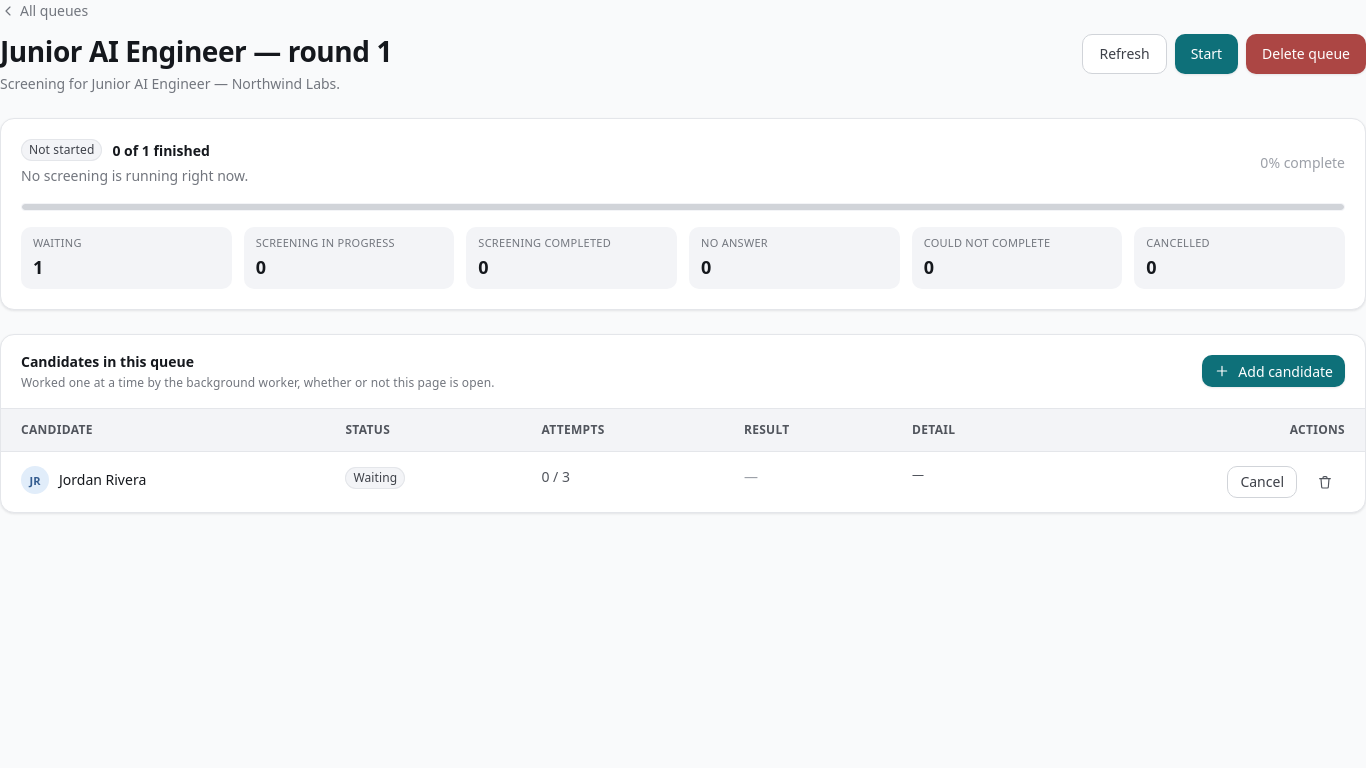
Test: QueueDetailPage › explains when a candidate cannot be queued without an approved plan
The image size is (1366, 768).
Click the button "Add candidate": (1274, 371) [1202,355,1345,387]
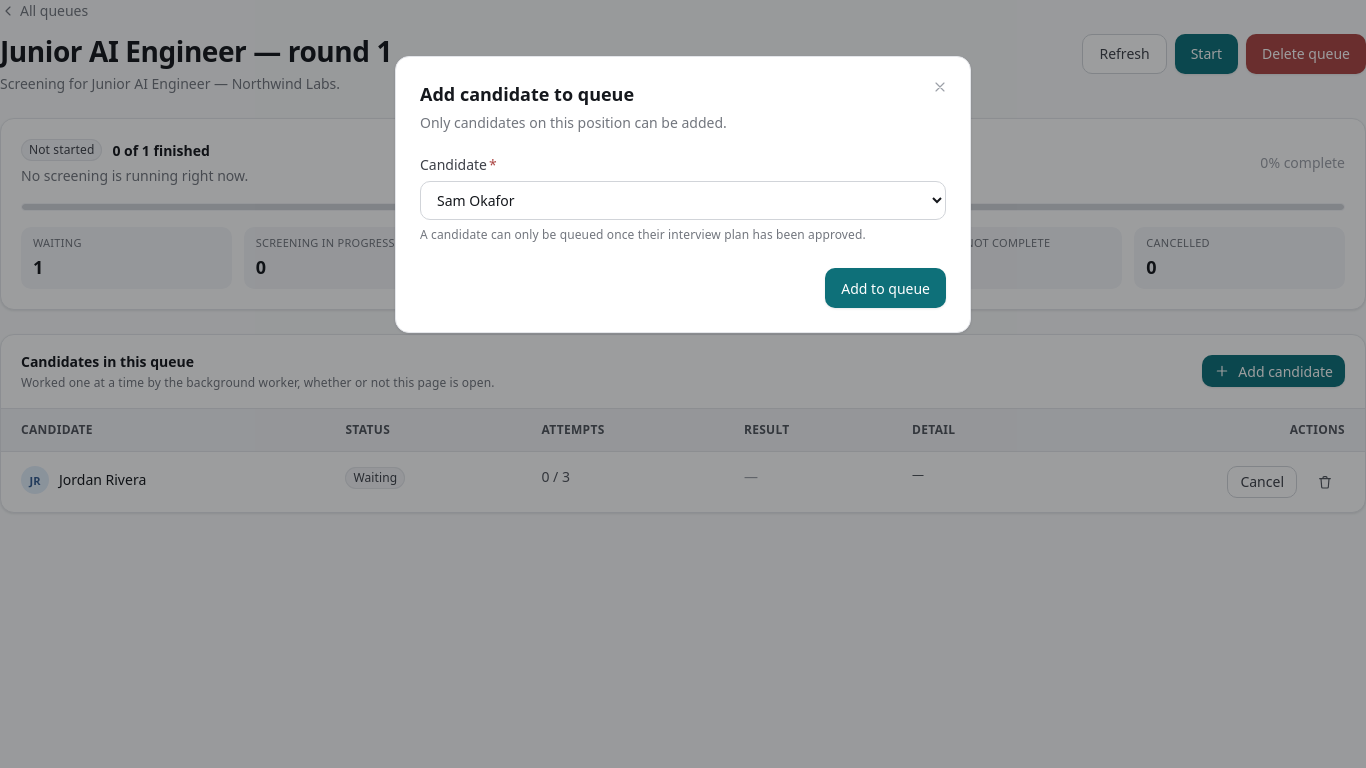
Click the button "Add to queue": (886, 288) [825,268,946,308]
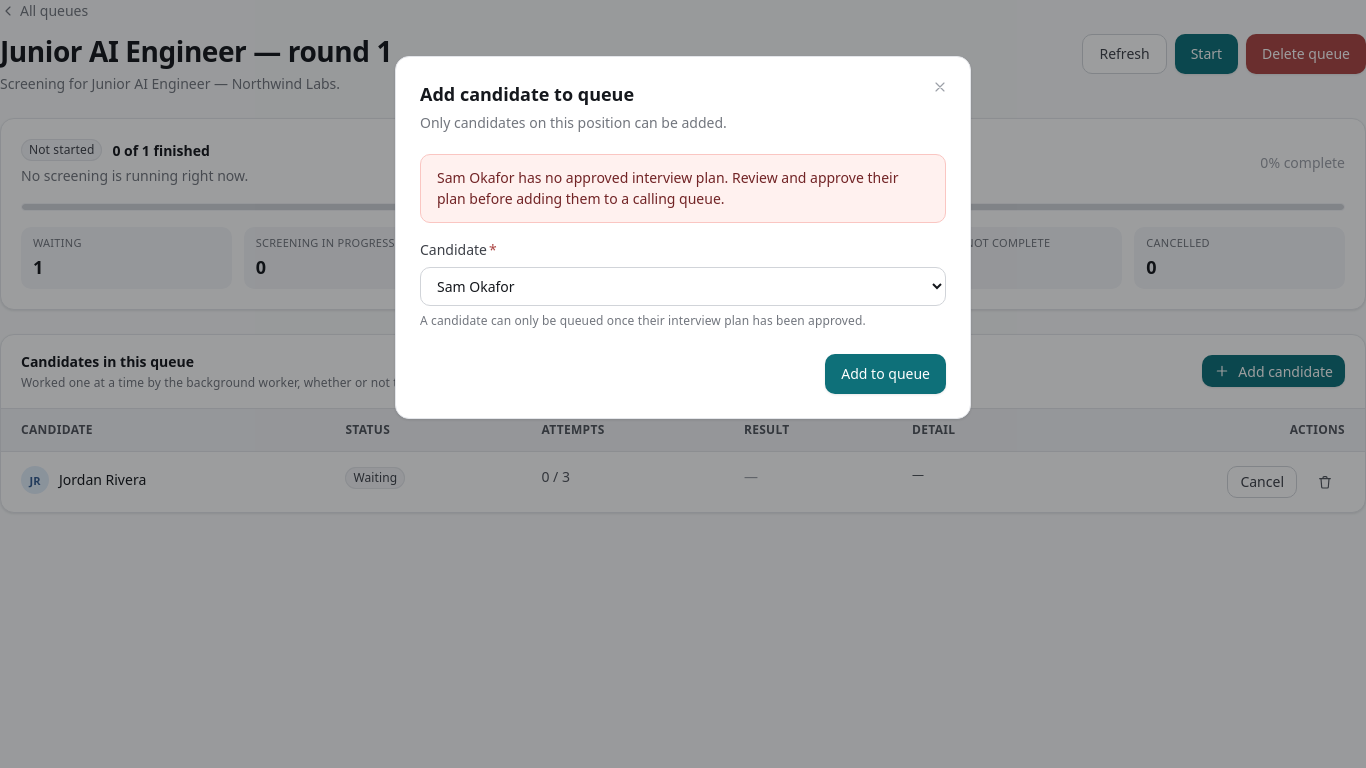
Expected: the message shows "approve their plan before adding them", [437,168,898,208]
